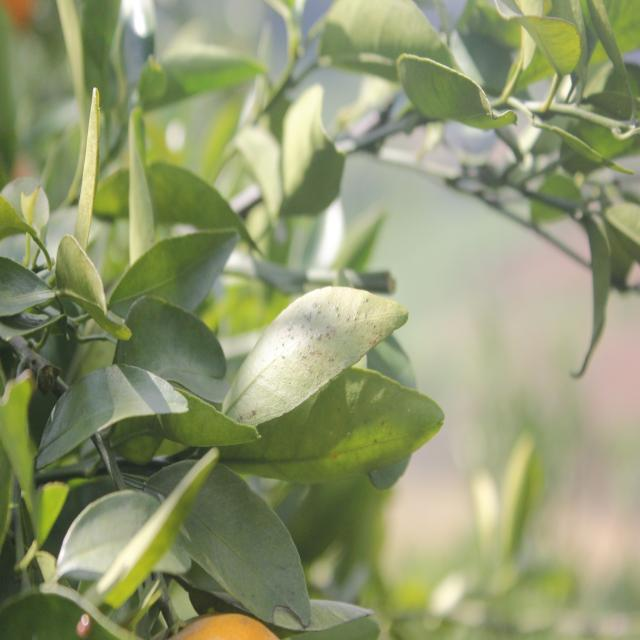melanose: (220, 285, 414, 432)
